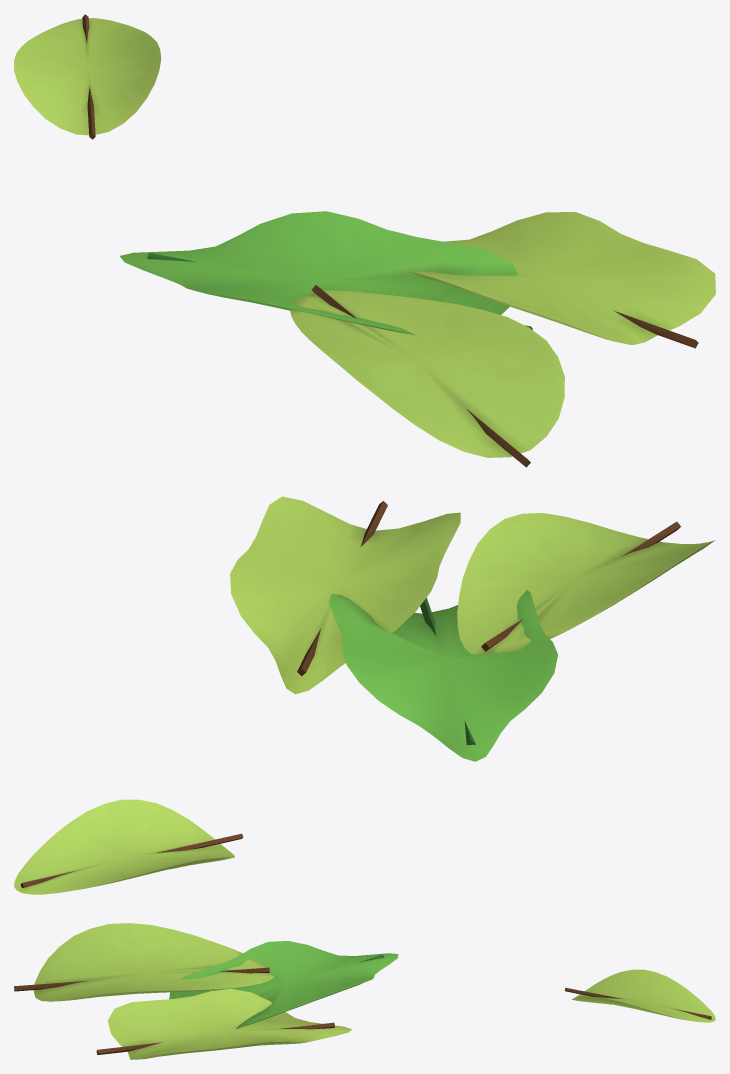
The model's file is glade_gc_leaf_litter_a.glb.
3 views of the same model, one above another, from view 1: azimuth 30°, elevation 25°; view 2: azimuth 150°, elevation 25°; view 3: azimuth 270°, elevation 25° (orthographic). The views are drawn at different scales.
Visible parts, largest first — view 1: glade_gc_leaf_litter_a; view 2: glade_gc_leaf_litter_a; view 3: glade_gc_leaf_litter_a.
Boxes of the visible parts, <box> form: glade_gc_leaf_litter_a: <box>14,14,715,467</box>; glade_gc_leaf_litter_a: <box>14,496,715,894</box>; glade_gc_leaf_litter_a: <box>14,923,715,1059</box>.
Size of the model in its own units: 2.14 by 0.3185 by 5.21.
